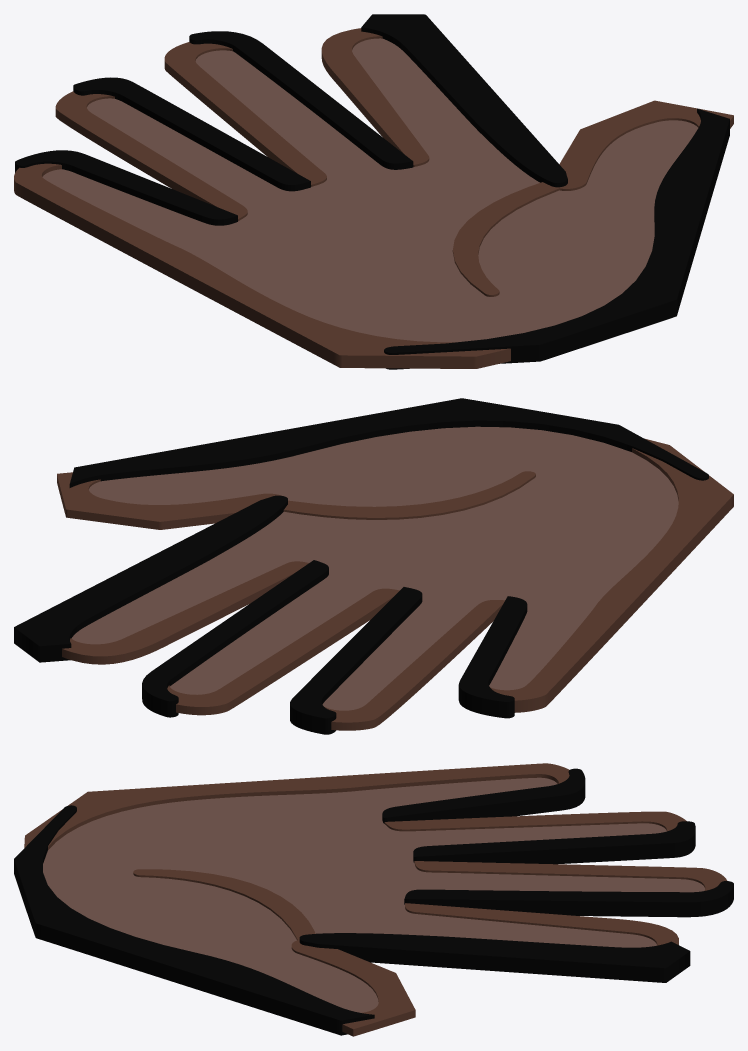
The model's file is emoji_u1f590_1f3ff.glb.
3 renders of one model, top to bottom at view 1: azimuth 30°, elevation 25°; view 2: azimuth 150°, elevation 25°; view 3: azimuth 270°, elevation 25°, orthographic. The views are drawn at different scales.
Visible parts, largest first — view 1: emoji_u1f590_1f3ff; view 2: emoji_u1f590_1f3ff; view 3: emoji_u1f590_1f3ff.
Part boxes in pixels (x1,y1,x2,y2): emoji_u1f590_1f3ff: (14,14,733,369); emoji_u1f590_1f3ff: (14,398,733,734); emoji_u1f590_1f3ff: (14,763,733,1036).
Size of the model in its own units: 0.0306 by 0.0008 by 0.0352.
